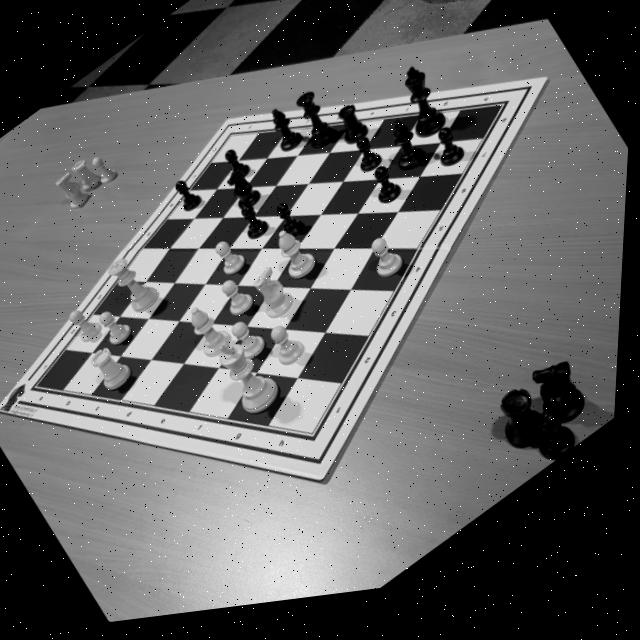chessboard: (40, 116, 507, 445)
